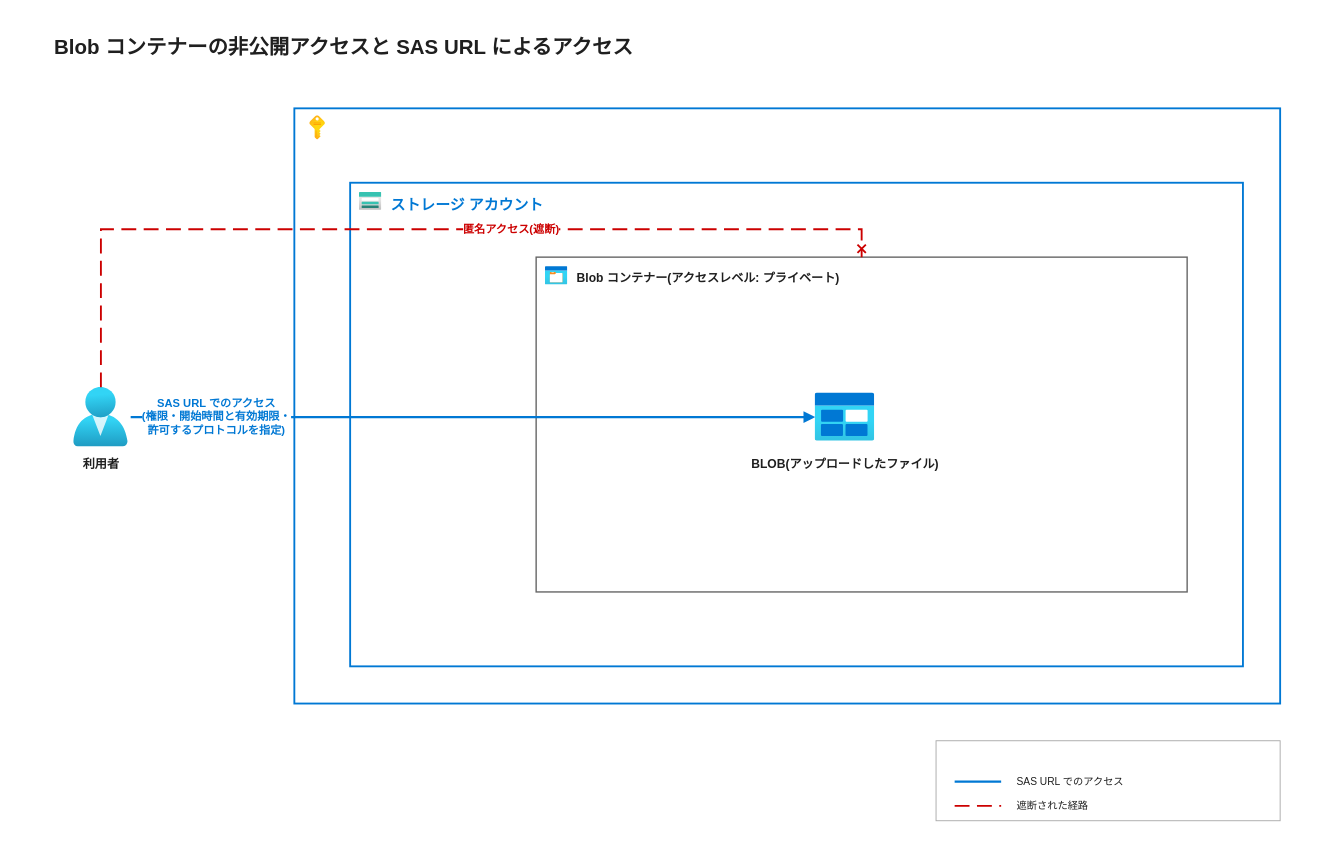
This 1332x867 diagram has some shape labels left out. The box of each missing label's shape, as (x1, y1, x2, y2) in pixels:
サブスクリプション: (293, 107, 1281, 704)
凡例: (935, 740, 1280, 821)
